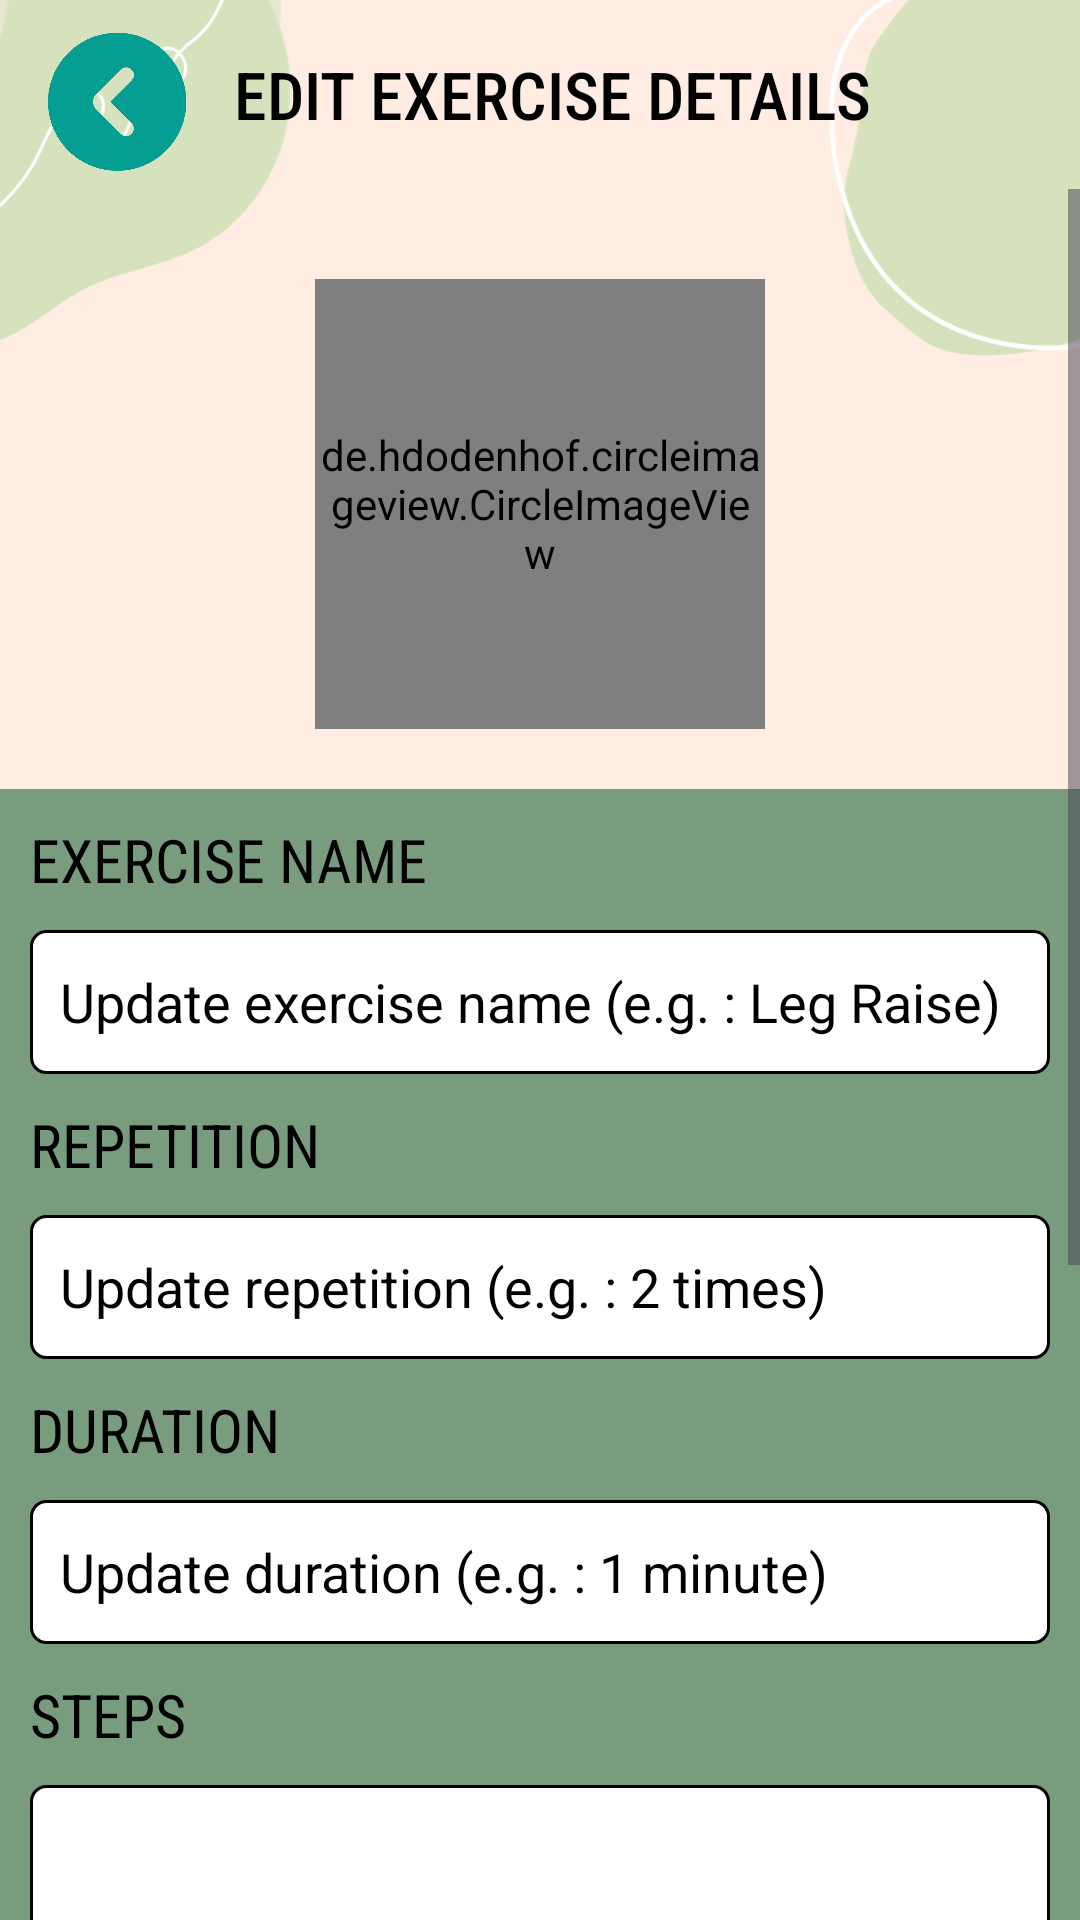

Screen size 1080w x 1920h. Icon name, then its center in pixels as (x,y):
Navigate back: (117,102)
